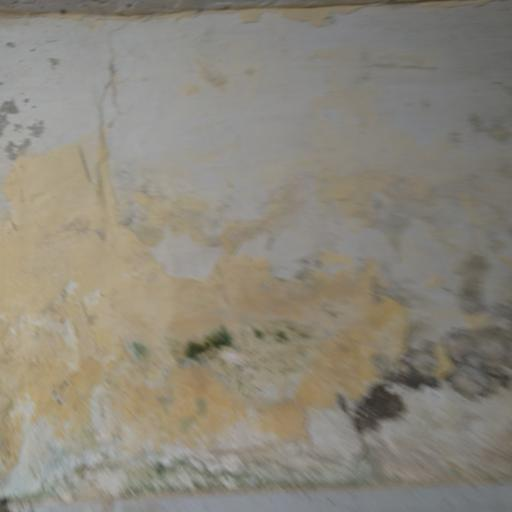peeling: (0, 125, 512, 501)
